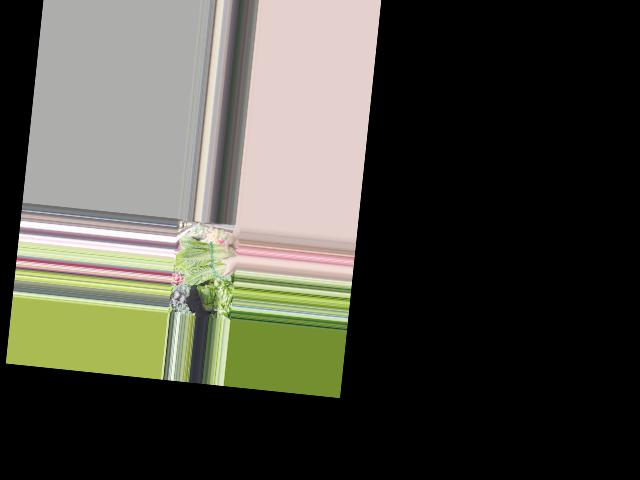lettuce: (175, 237, 239, 290)
